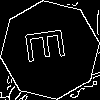E: (25, 25, 74, 64)
